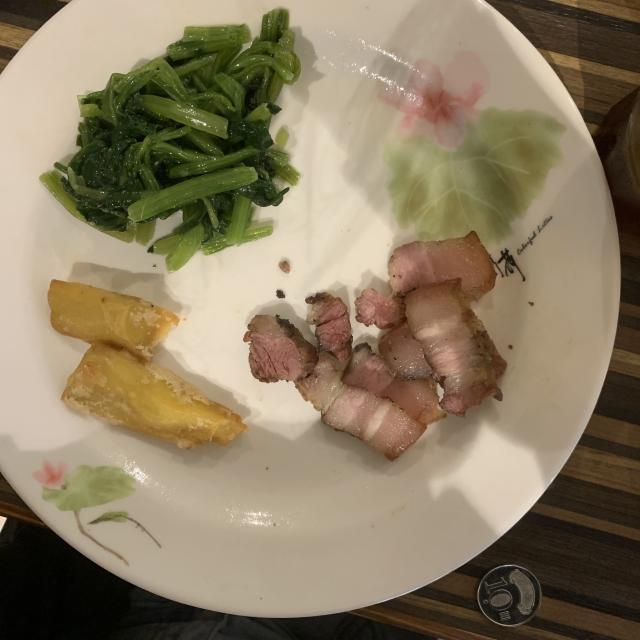coin: (478, 565, 541, 626)
grilled pork: (244, 231, 506, 460)
mustard greens: (40, 9, 300, 271)
